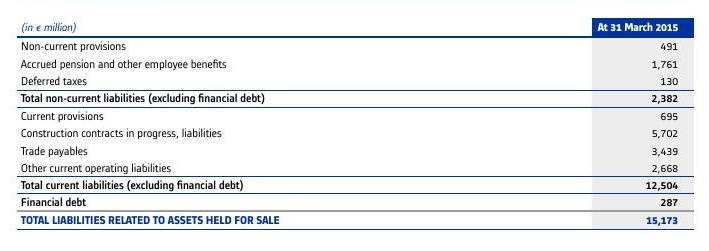table: (0, 0, 709, 251)
